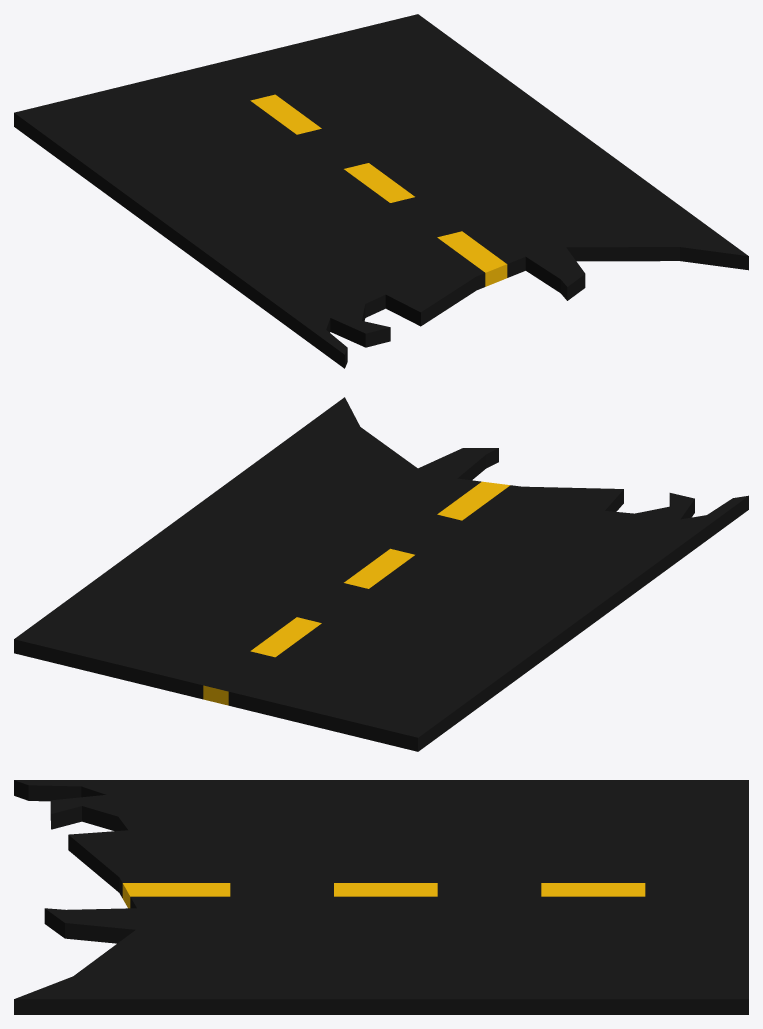
File: brokenstreet.FBX
The picture shows the model from 3 angles, top to bottom: view 1: azimuth 30°, elevation 25°; view 2: azimuth 150°, elevation 25°; view 3: azimuth 270°, elevation 25°; orthographic projection. The views are drawn at different scales.
Parts seen in each view (by area): view 1: Box002; view 2: Box002; view 3: Box002.
Boxes of the visible parts, x1,y1,x2,y2 form: Box002: (14,14,748,368); Box002: (14,397,748,751); Box002: (14,780,748,1014).
Bounding box in the file's own units: 113 × 3.75 × 160.
